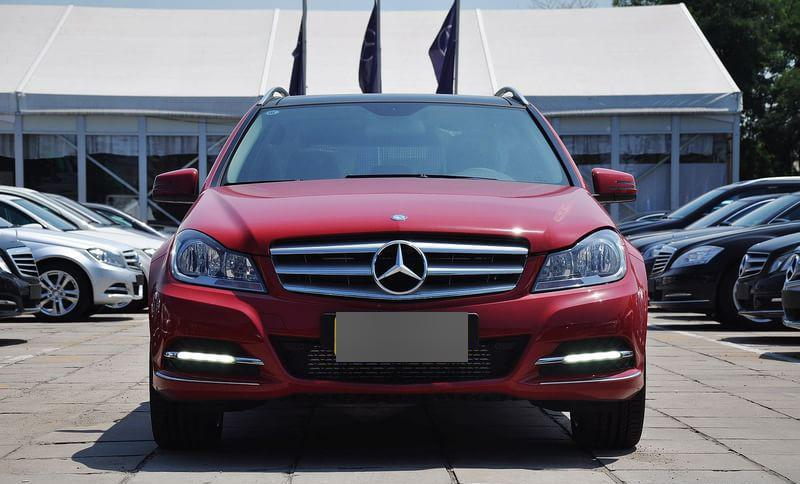Wagon: (147, 84, 651, 451)
